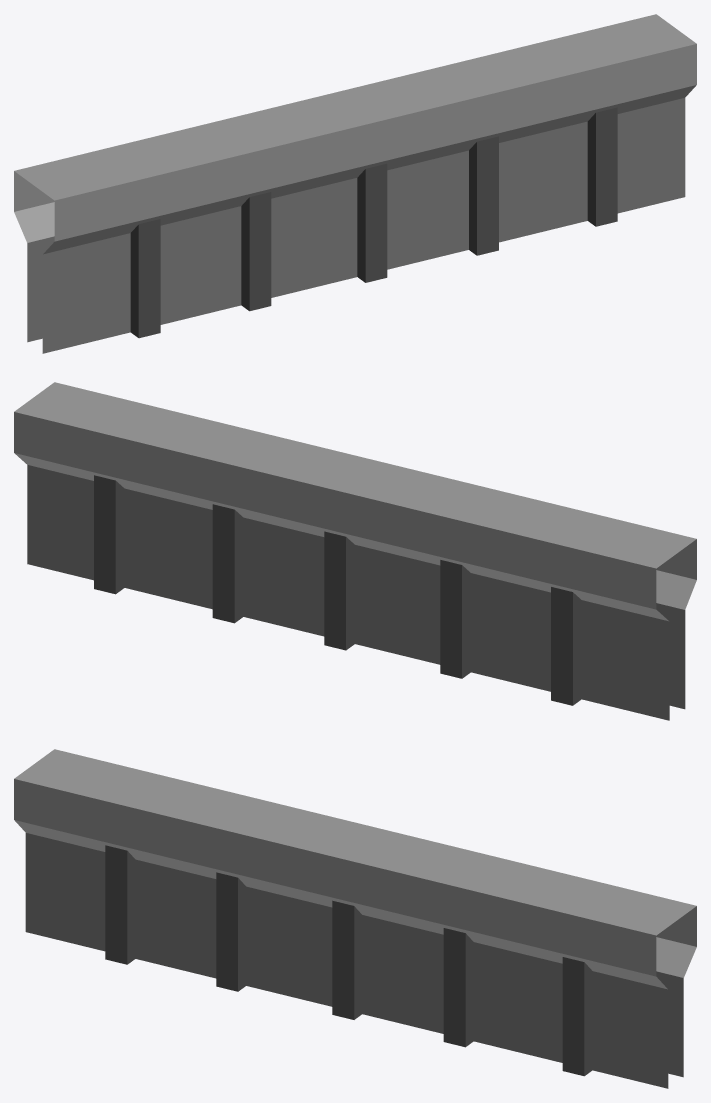
Rendered from fence_B.FBX.
3 renders of one model, top to bottom at view 1: azimuth 30°, elevation 25°; view 2: azimuth 150°, elevation 25°; view 3: azimuth 330°, elevation 25°, orthographic.
Visible parts, largest first — view 1: fence_B; view 2: fence_B; view 3: fence_B.
Part boxes in pixels (left/top/right/bottom): fence_B: left=14, top=14, right=696, bottom=353; fence_B: left=14, top=382, right=696, bottom=720; fence_B: left=14, top=749, right=696, bottom=1088.
Size of the model in its own units: 137 by 32.89 by 14.94.
